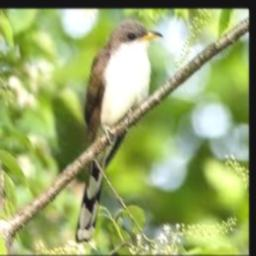Cuckoo: (76, 20, 163, 243)
